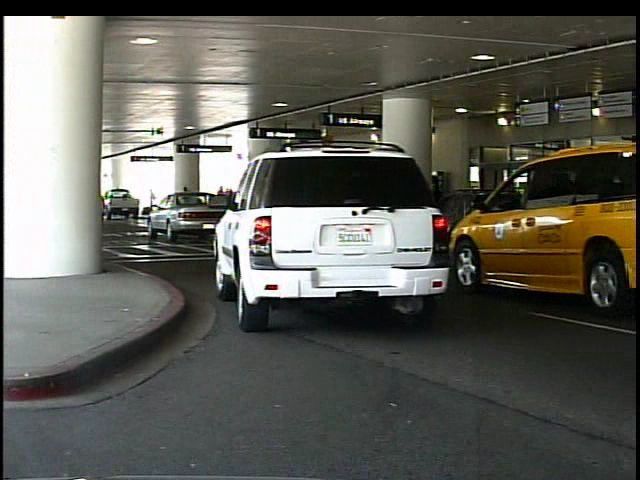person: (540, 172, 569, 260)
